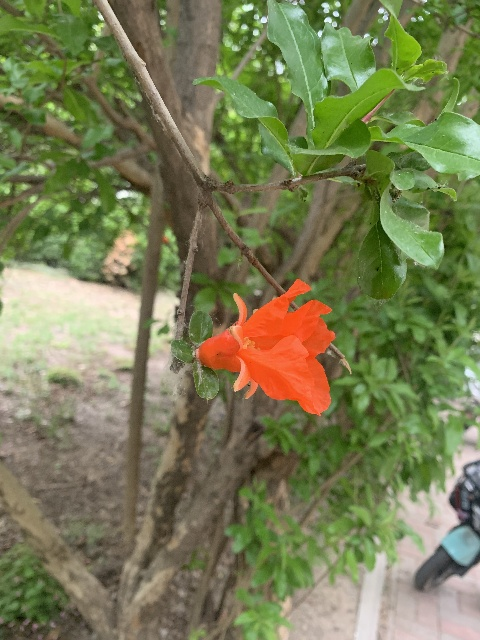flower: (196, 279, 336, 414)
